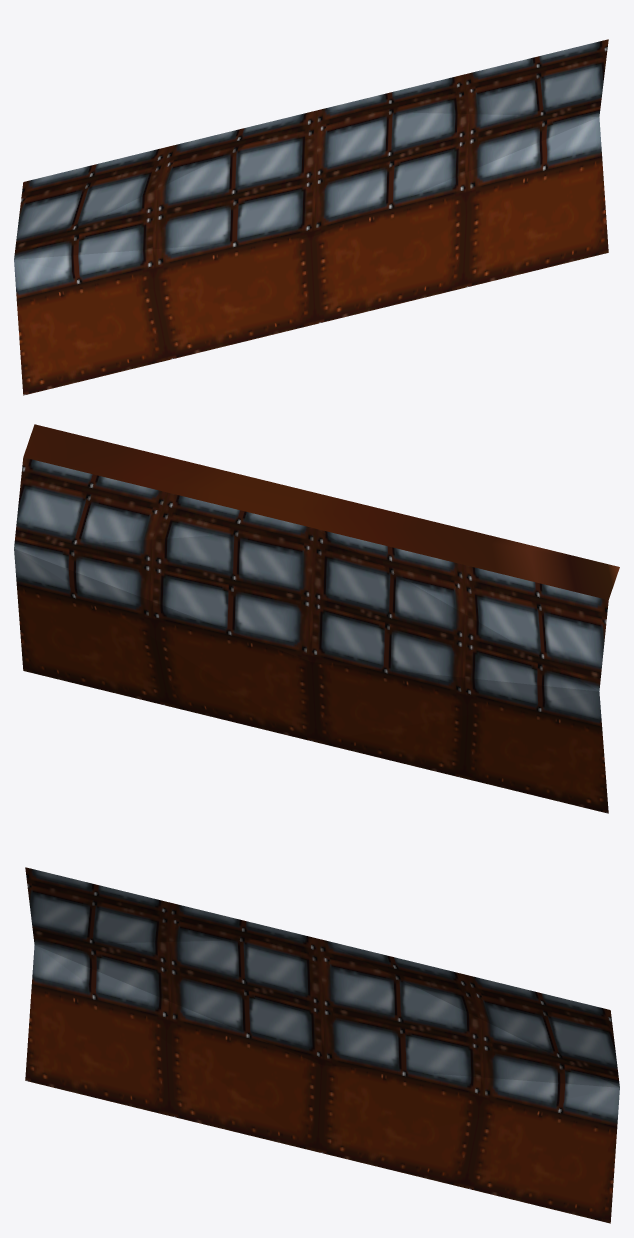
File: W_A3_xxxx [BraunesGlas]_875.glb
The picture shows the model from 3 angles, top to bottom: view 1: azimuth 30°, elevation 25°; view 2: azimuth 150°, elevation 25°; view 3: azimuth 330°, elevation 25°; orthographic projection.
Parts seen in each view (by area): view 1: polySurfaceShape787; view 2: polySurfaceShape787, polySurfaceShape1065; view 3: polySurfaceShape787.
Part boxes in pixels (x1,y1,x2,y2): polySurfaceShape787: (14,39,608,395); polySurfaceShape787: (14,457,608,813); polySurfaceShape1065: (23,424,619,599); polySurfaceShape787: (25,867,619,1223).
Bounding box in the file's own units: 1 × 0.3891 × 0.0607.
Materials: 2 (2 with a texture image).
